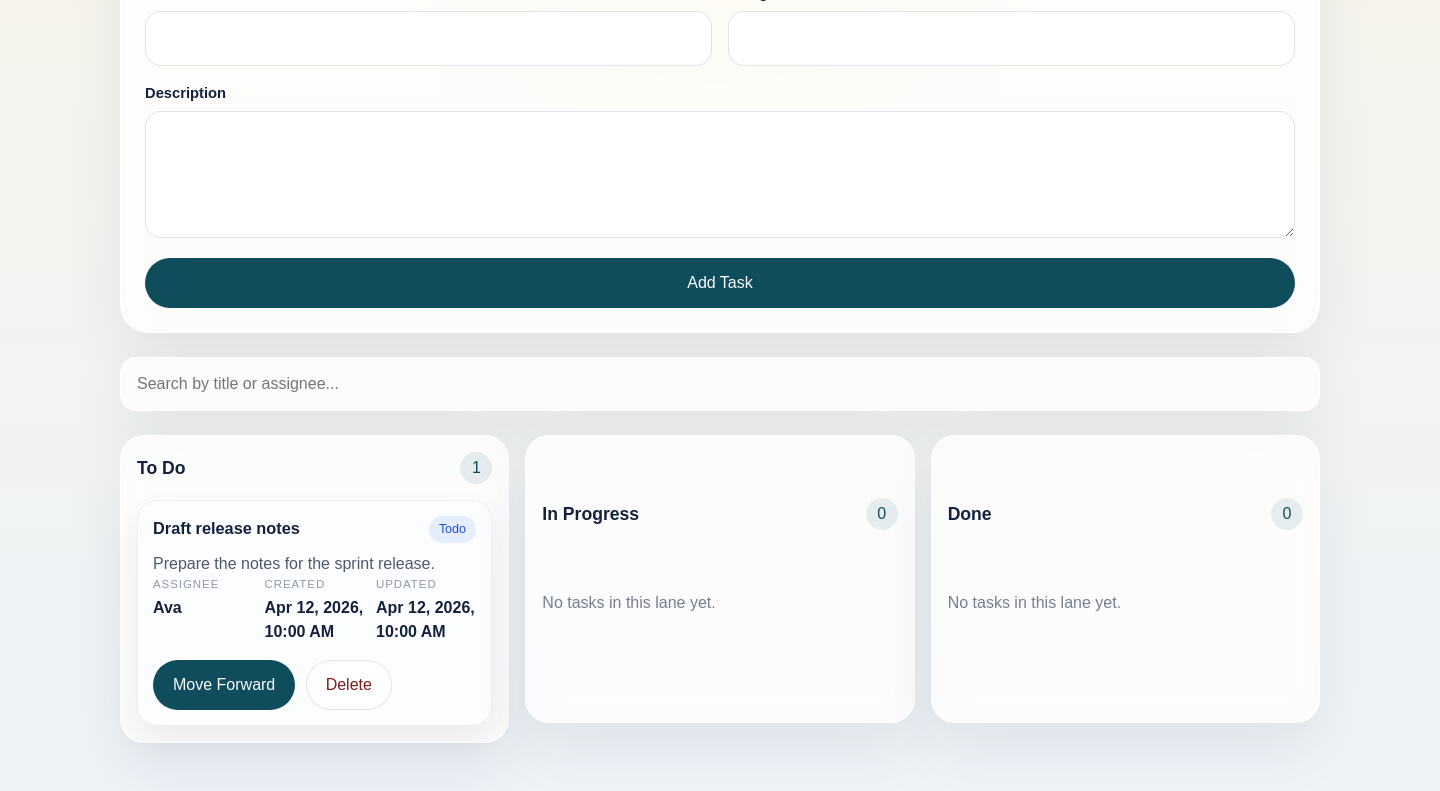
Test case: App › clears the undo banner after a delete
The image size is (1440, 791).
(page scrolled)
Click the button "Move Forward" at point(224, 685), box 153,660 -> 295,710
(page scrolled)
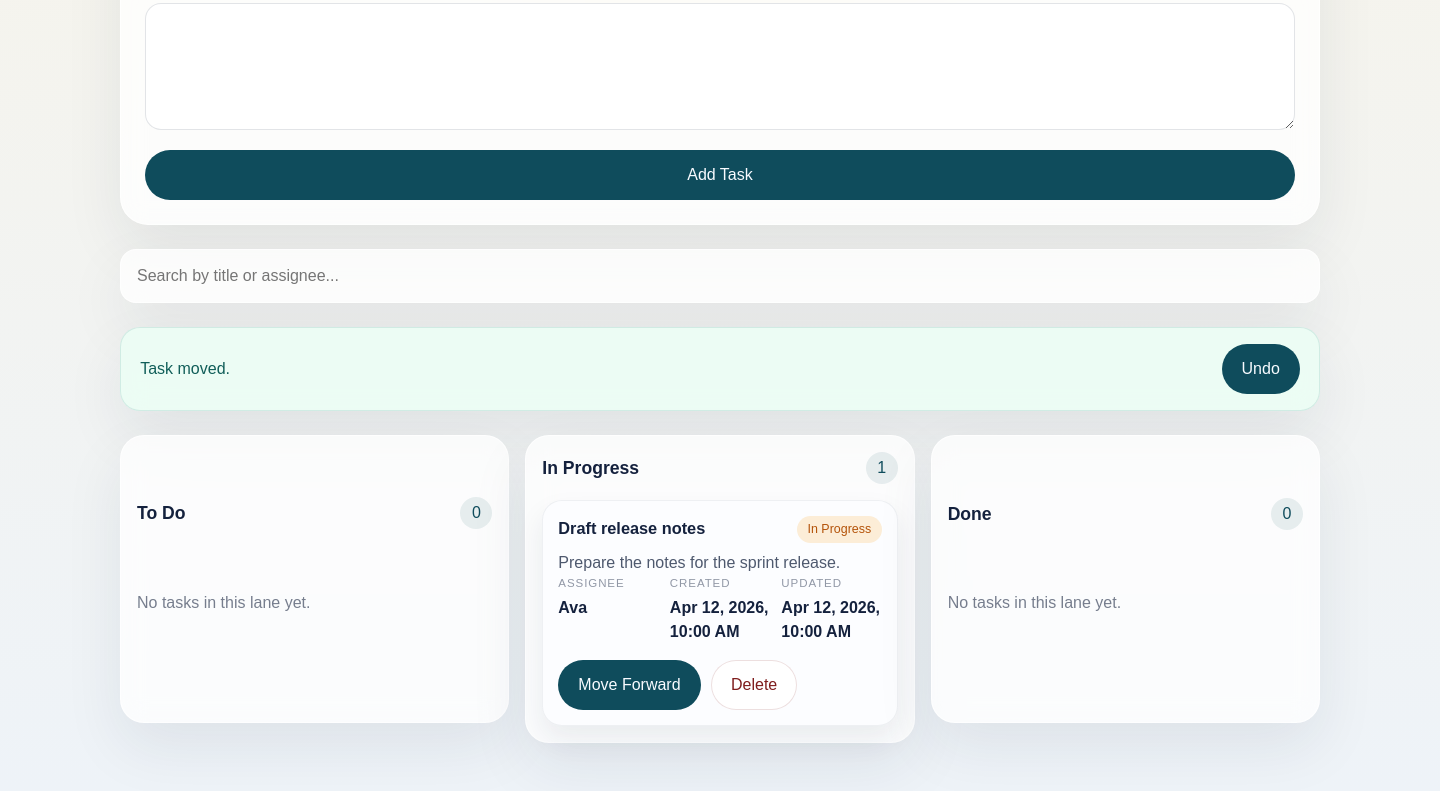
Check: the message "Task moved. Undo" is shown, box 120,327 -> 1320,411
Click the button "Delete" at point(754, 685), box 711,660 -> 797,710
(page scrolled)
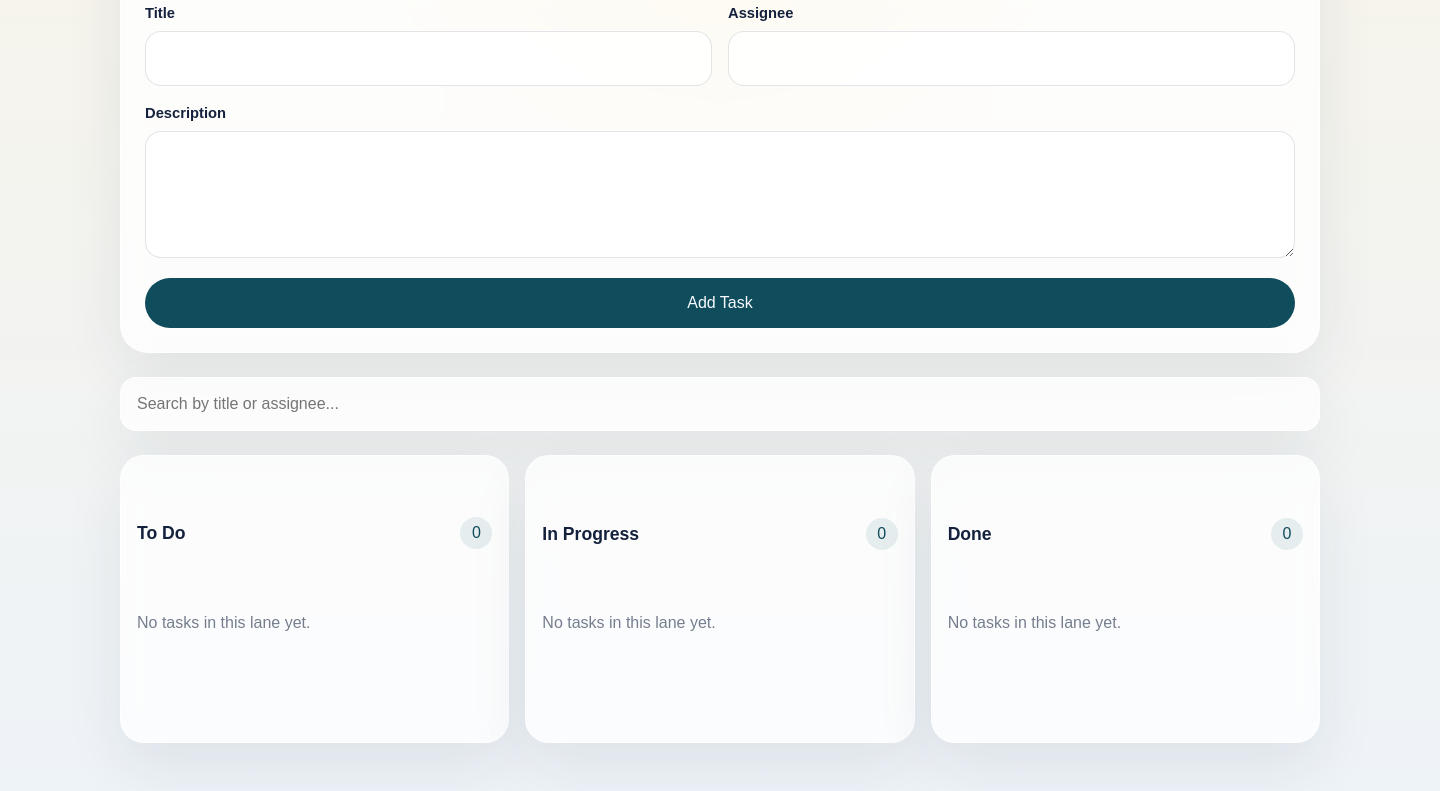
Check: the message "Task moved. Undo" is gone
